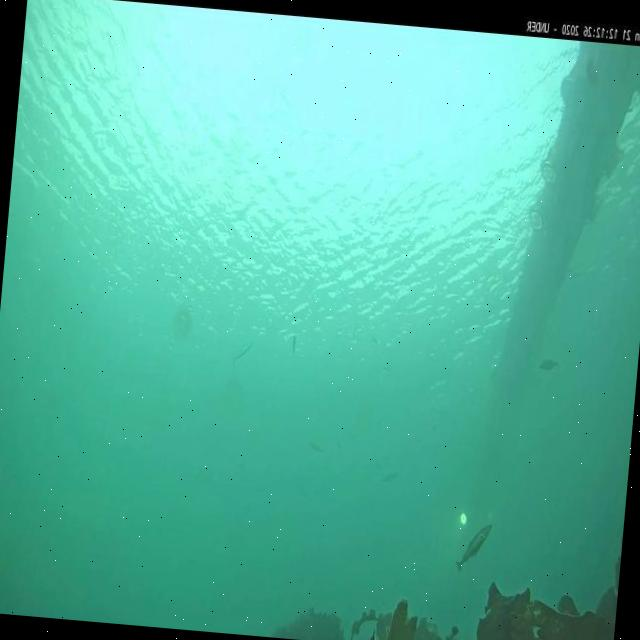fish: (454, 520, 494, 576), (536, 354, 561, 376), (306, 430, 327, 456), (234, 337, 252, 366), (382, 466, 398, 488), (290, 329, 300, 359)
